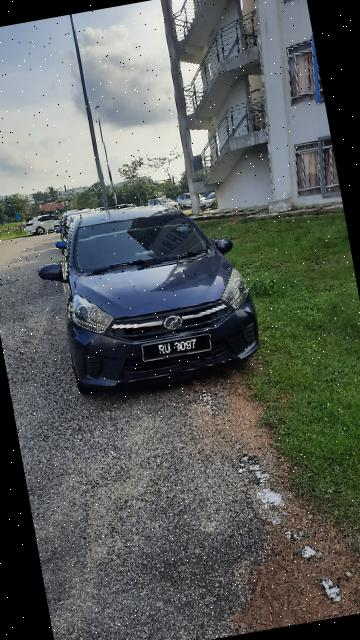License_Plate: (141, 331, 216, 367)
car: (25, 189, 271, 407)
